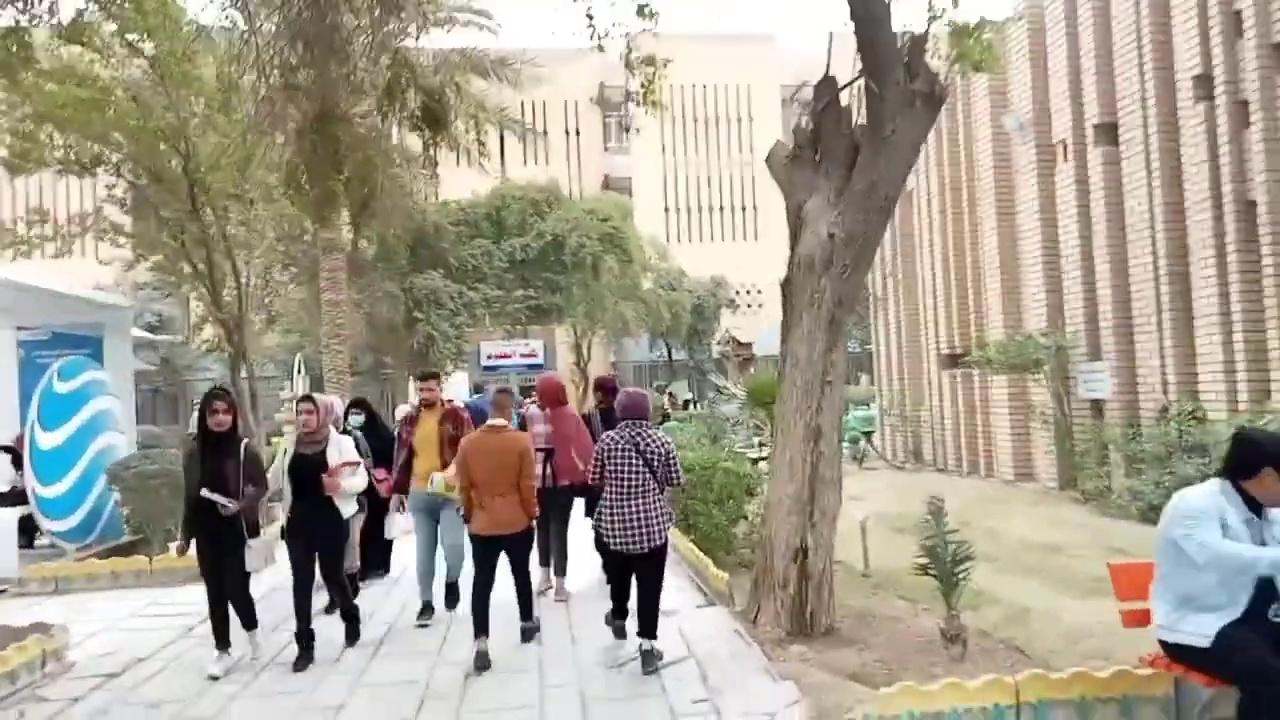person: (1148, 424, 1279, 718), (265, 392, 368, 672), (584, 387, 684, 674), (175, 385, 269, 679), (449, 386, 541, 672), (387, 368, 474, 627), (530, 372, 594, 602), (340, 396, 396, 587)
tree: (1, 0, 544, 555), (742, 0, 1008, 637), (0, 0, 320, 459), (219, 0, 544, 415), (405, 176, 726, 417), (345, 197, 473, 413), (957, 326, 1083, 491), (640, 259, 737, 408), (910, 492, 976, 659), (103, 444, 186, 560)
